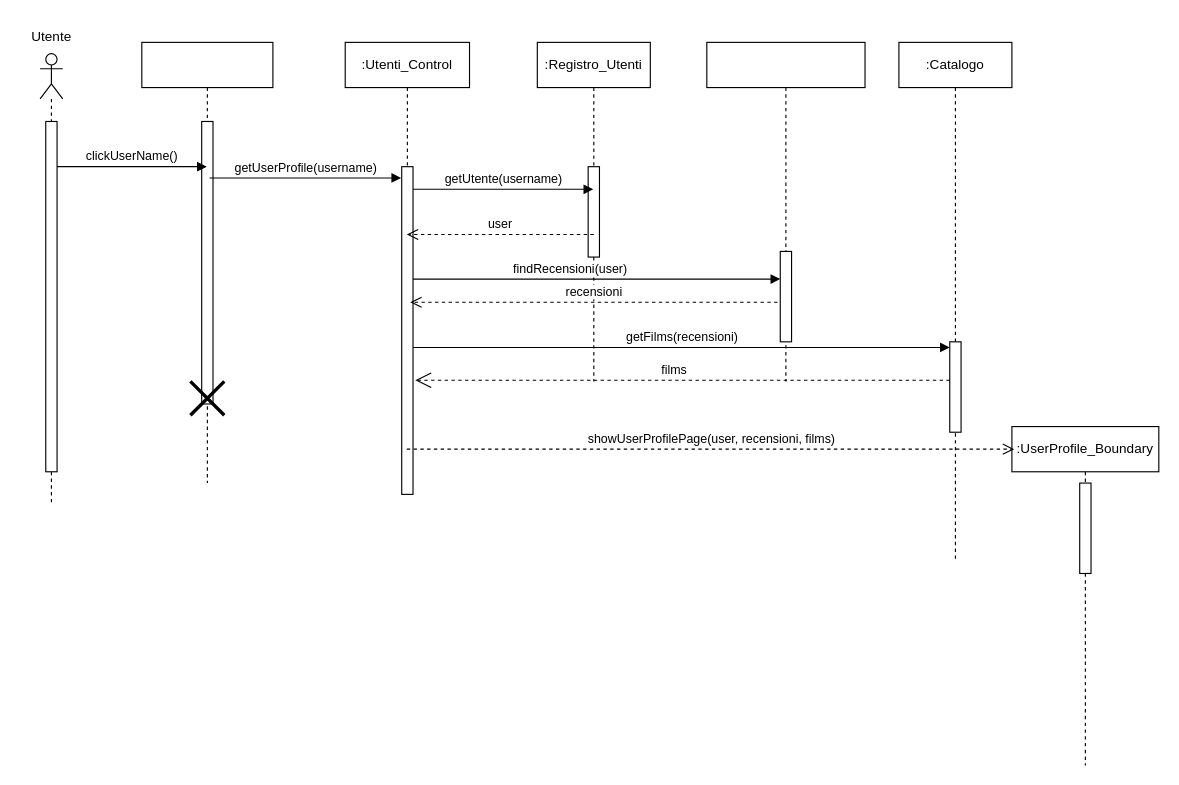
The diagram is 1179 pixels wide and 785 high, and some of its shapes have lost their labels. The shapes that lost their labels are listed below. From the top down, each one's box as (x1, y1, x2, y2) in pixels, then its label:
(706, 41, 865, 381): :Catalogo_Recensioni
(141, 41, 273, 483): :Film_Boundary
